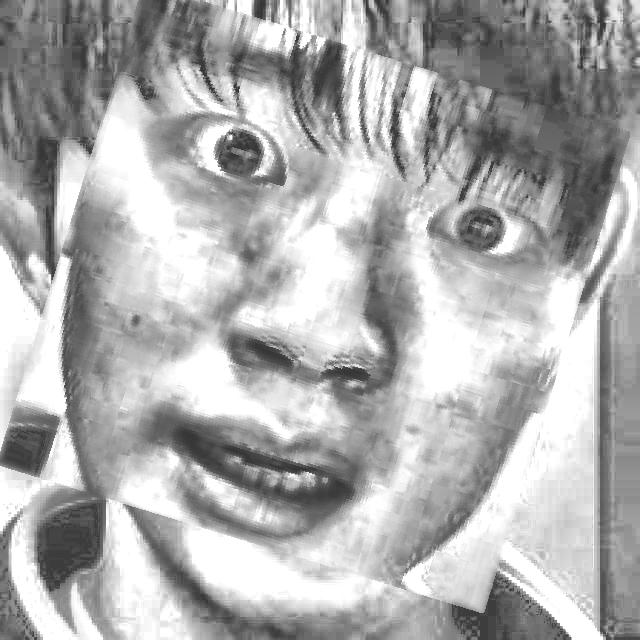fear: (27, 14, 599, 582)
